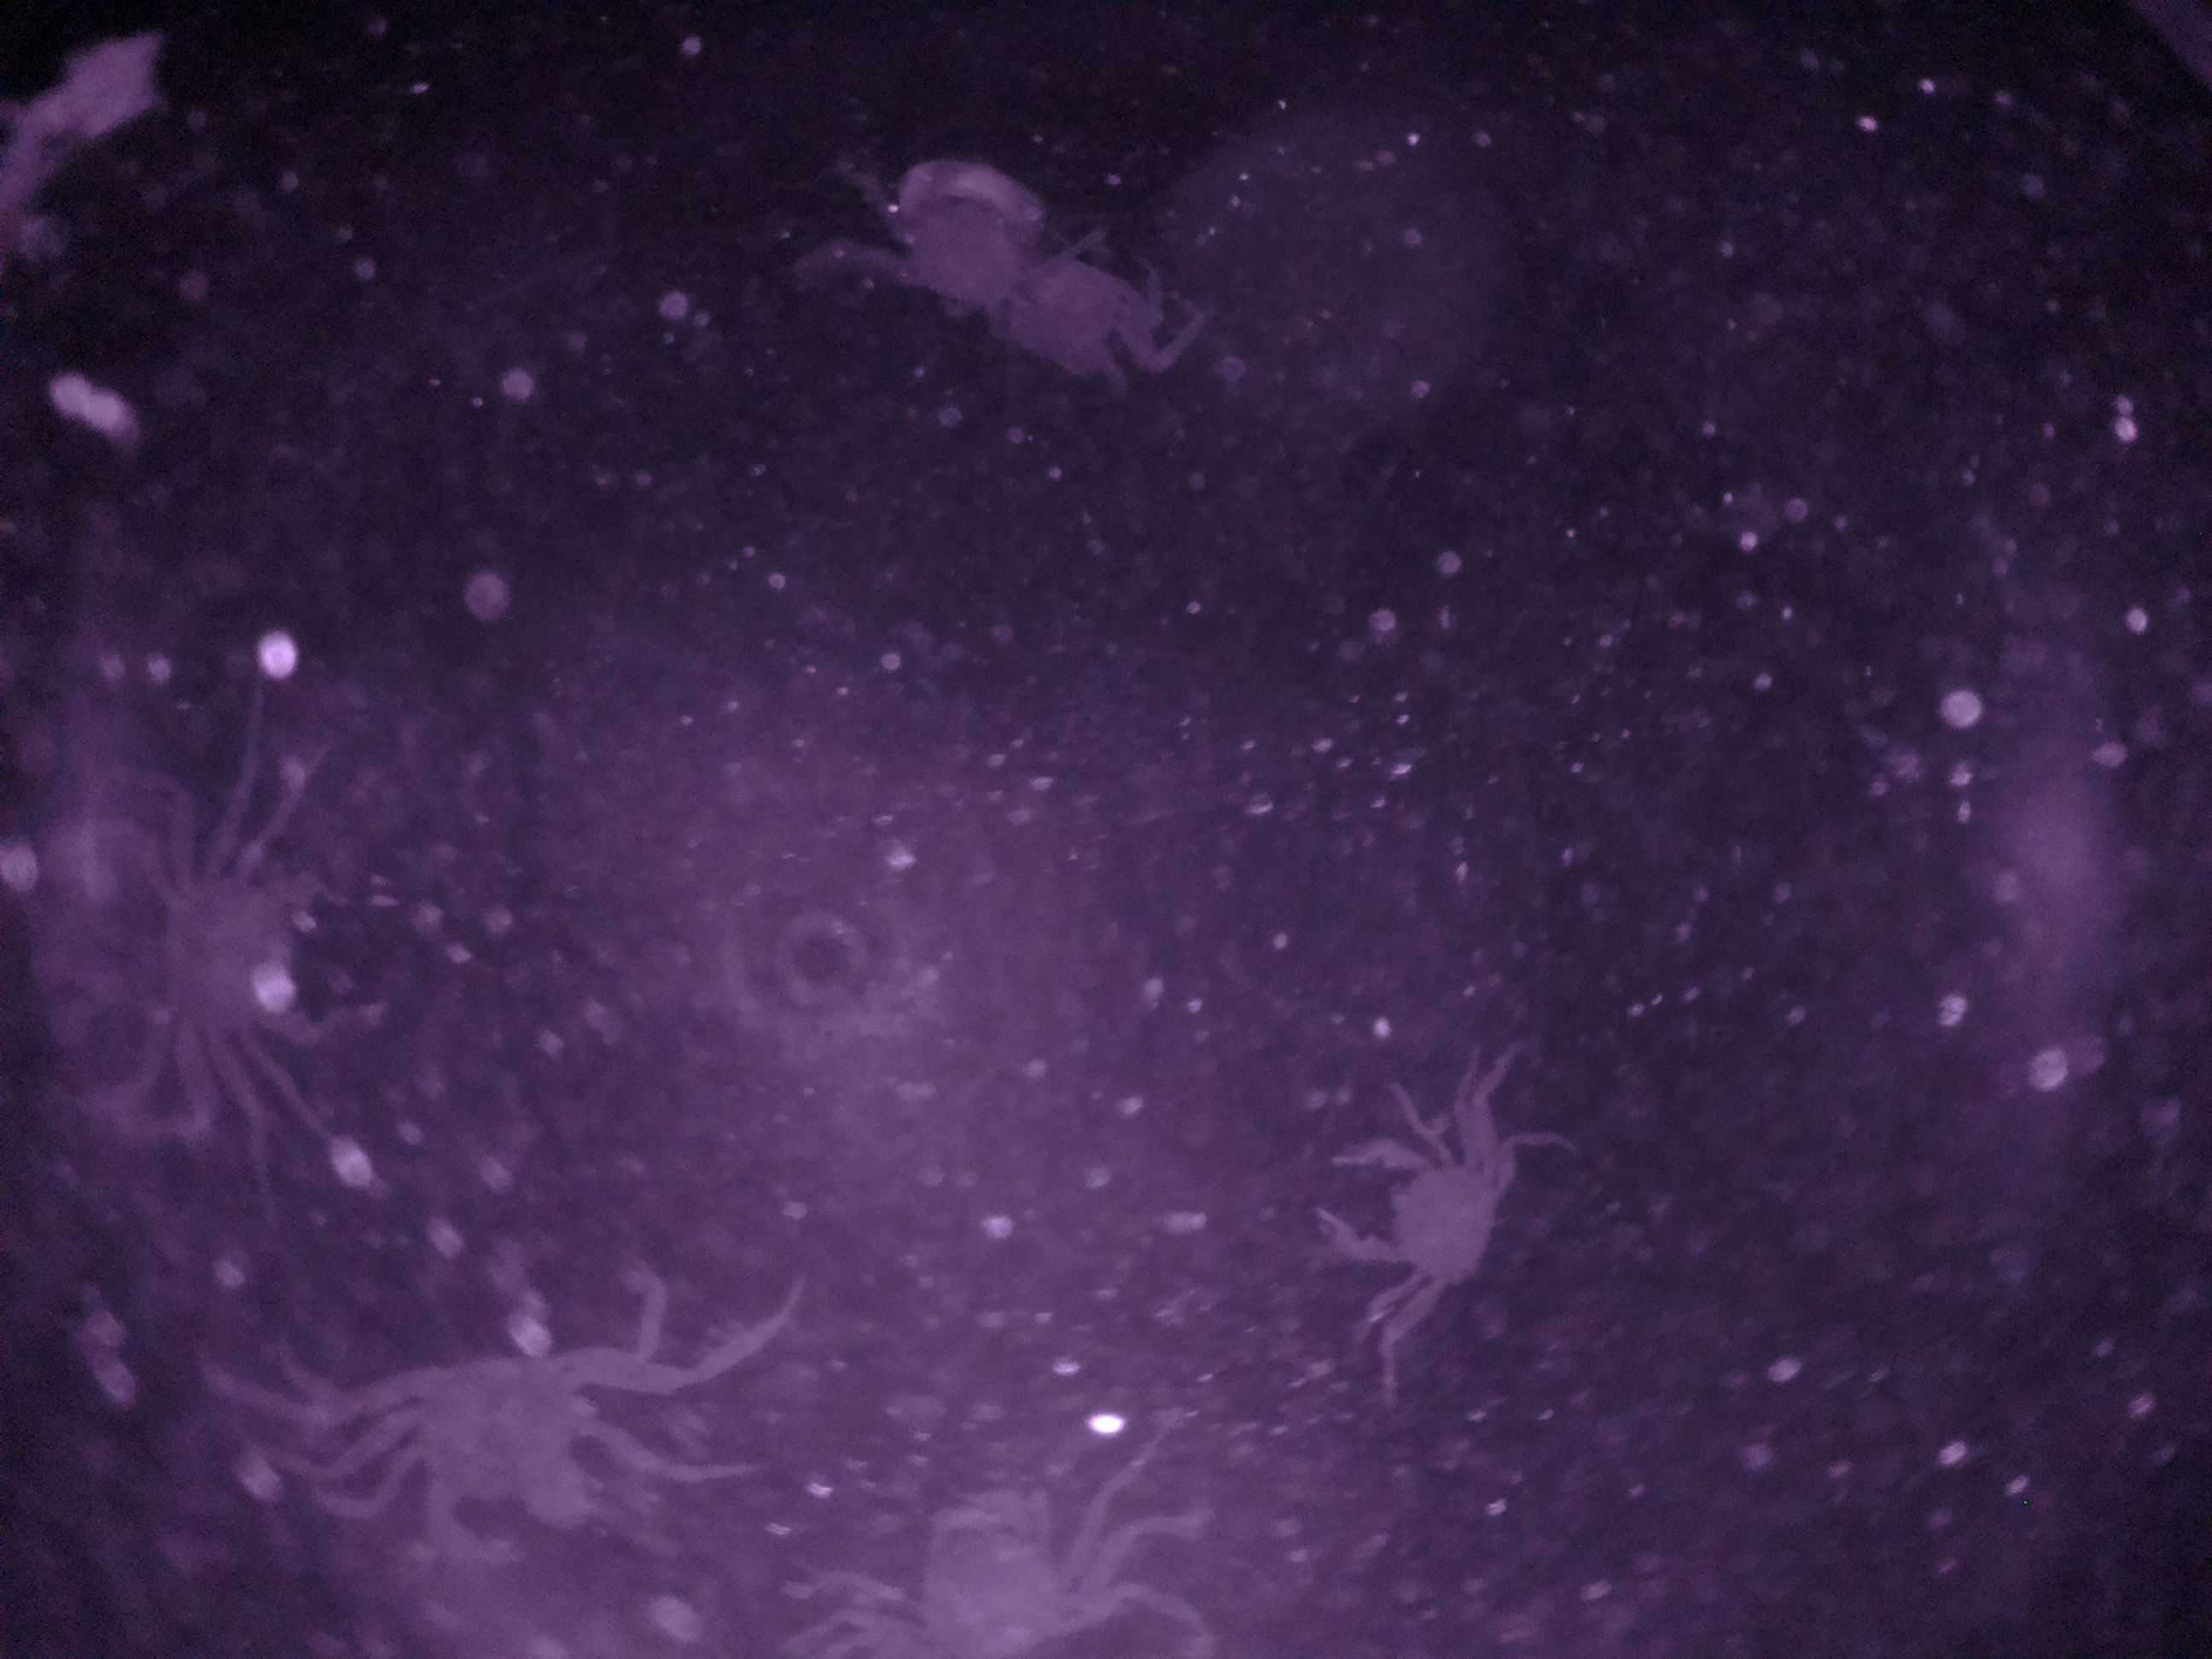Crab: (1296, 1115, 1547, 1333)
